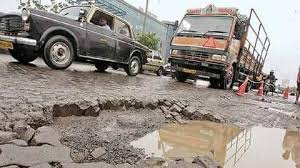potholes: (10, 79, 300, 161)
